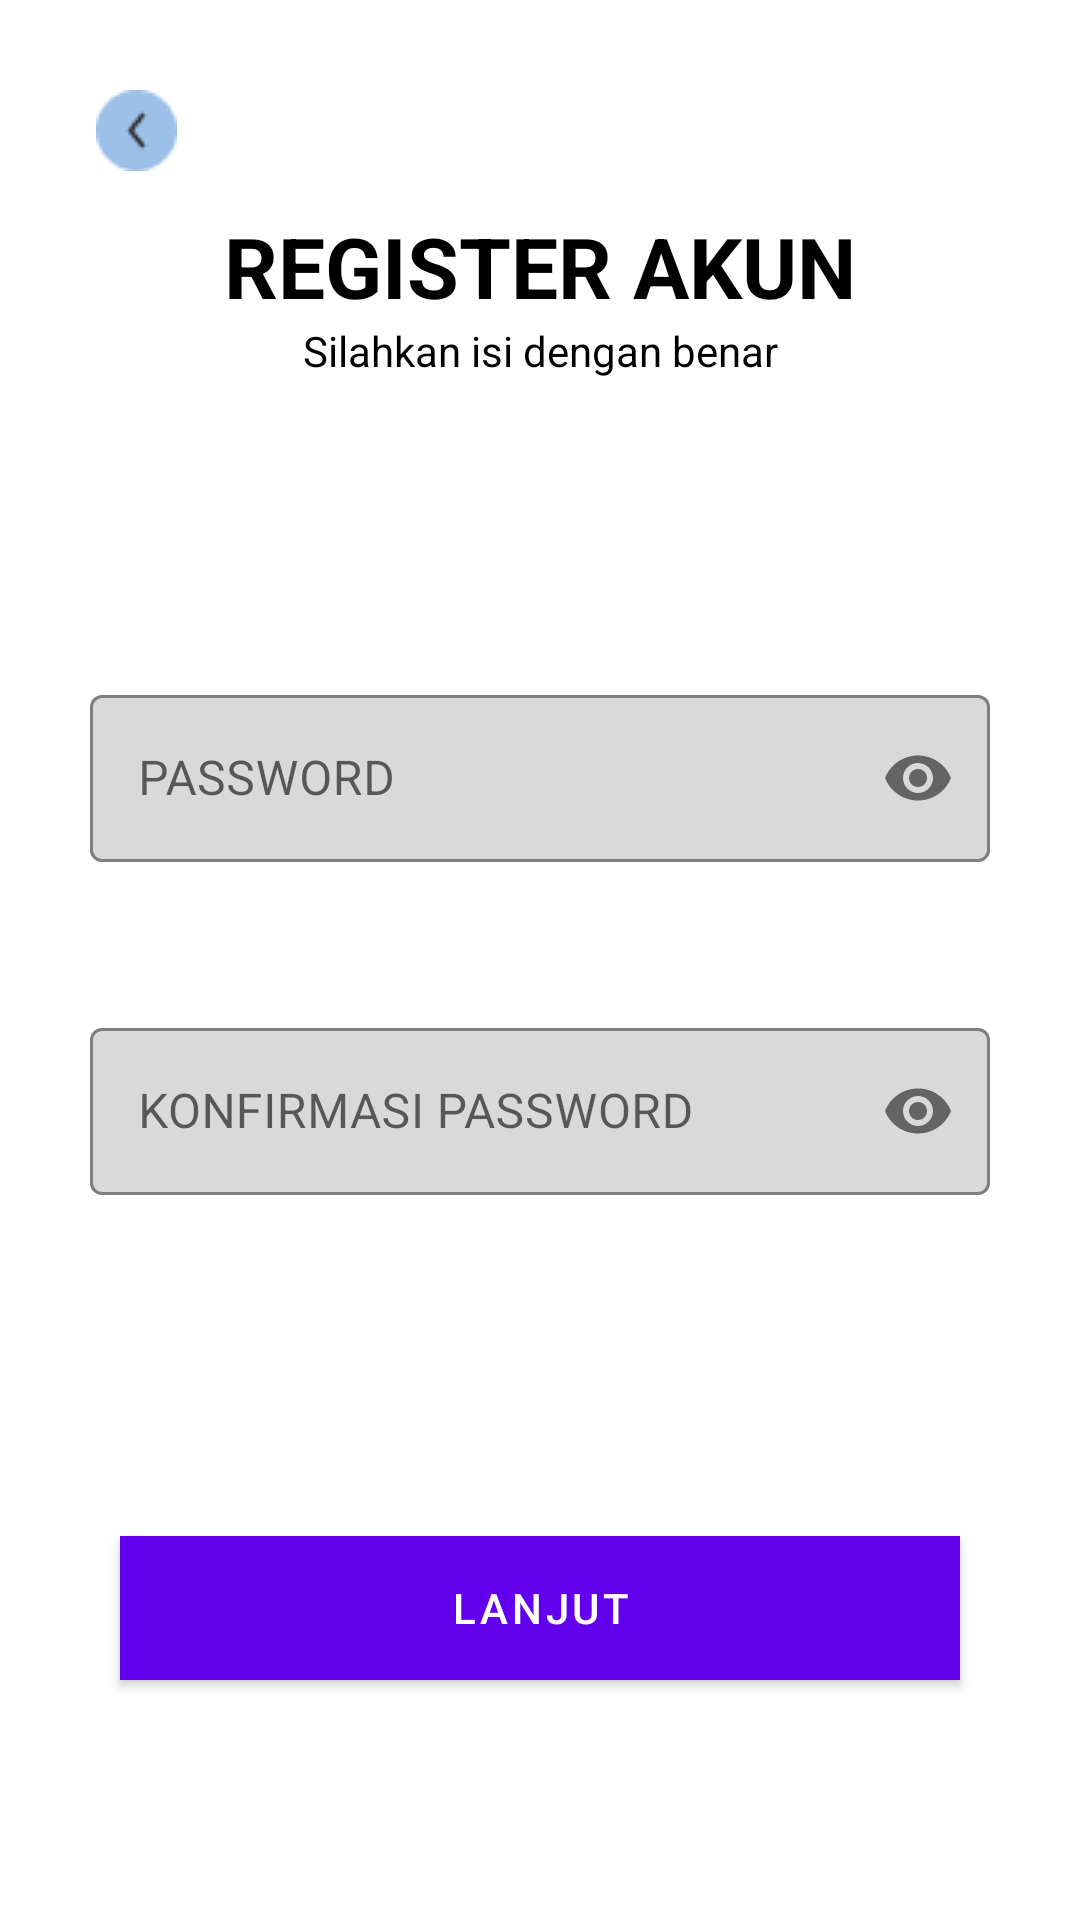

Icons on this 1080×1920 Android screen, each with its box as (x1, y1, x2, y2):
kembali: (96, 90, 177, 171)
